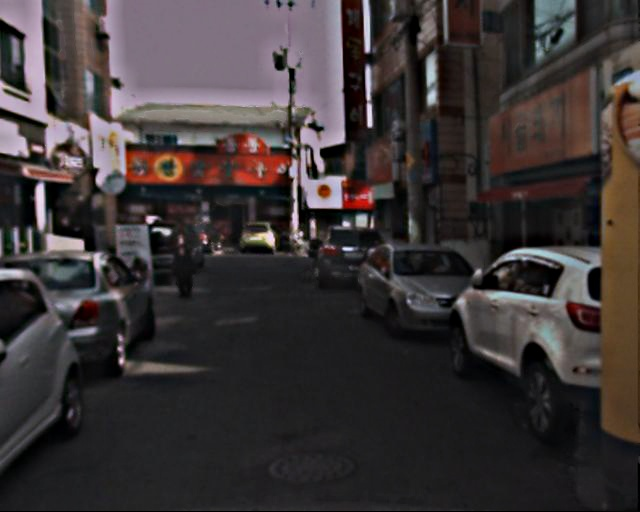person: (166, 218, 202, 302)
